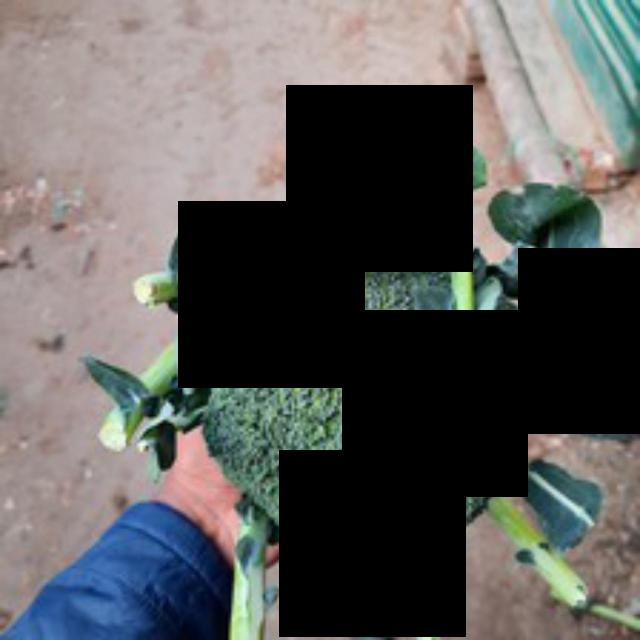broccoli: (196, 204, 532, 560)
